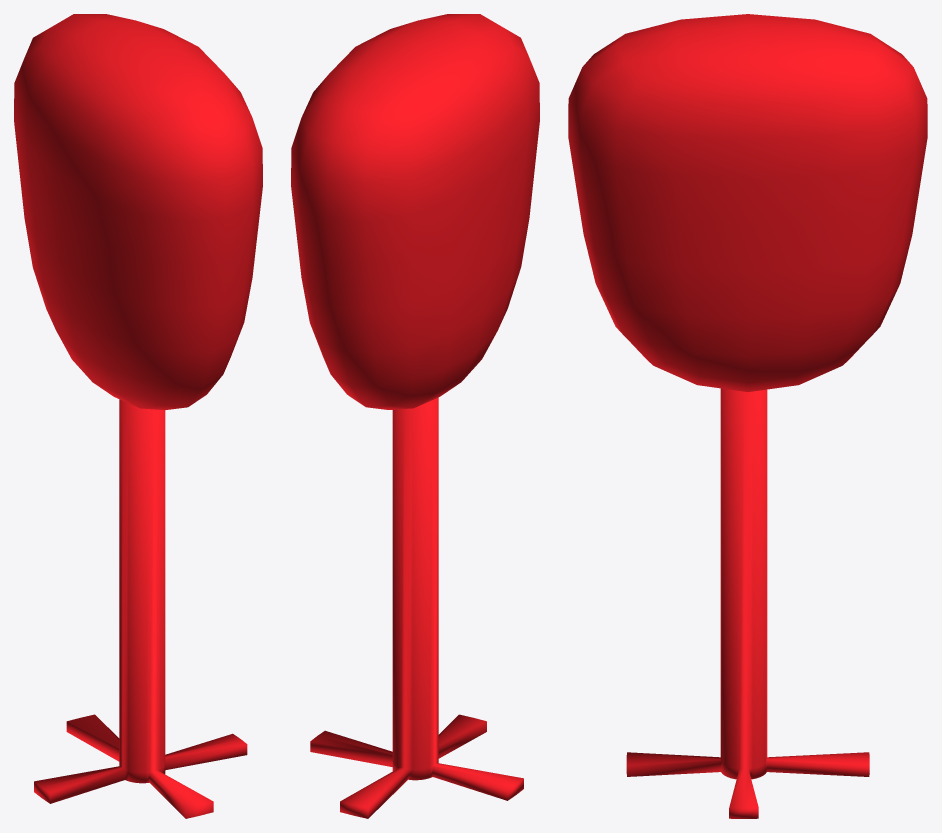
Rendered from TargetDummy.gltf.
3 renders of one model, left to right at view 1: azimuth 30°, elevation 25°; view 2: azimuth 150°, elevation 25°; view 3: azimuth 270°, elevation 25°, orthographic.
Parts seen in each view (by area): view 1: TargetDummy; view 2: TargetDummy; view 3: TargetDummy.
Boxes of the visible parts, <box> form: TargetDummy: <box>14,14,262,818</box>; TargetDummy: <box>291,14,539,818</box>; TargetDummy: <box>568,14,927,818</box>.
Bounding box in the file's own units: 0.497 × 1.74 × 0.7625.
